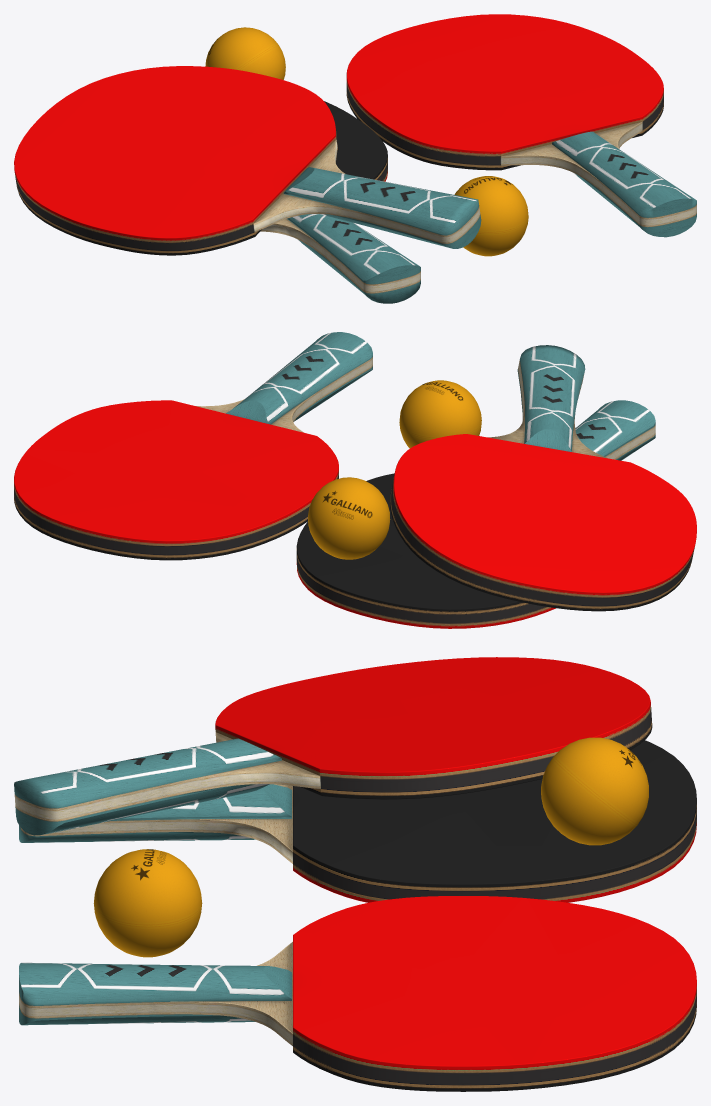
The picture shows the model from 3 angles, top to bottom: view 1: azimuth 30°, elevation 25°; view 2: azimuth 150°, elevation 25°; view 3: azimuth 270°, elevation 25°; orthographic projection. The views are drawn at different scales.
Visible parts, largest first — view 1: SM_PingPongPaddle_Show, SM_PingPongPaddle, SM_PingPongBall; view 2: SM_PingPongPaddle_Show, SM_PingPongPaddle, SM_PingPongBall; view 3: SM_PingPongPaddle_Show, SM_PingPongPaddle, SM_PingPongBall.
Part boxes in pixels (bbox=[...]): SM_PingPongPaddle_Show: bbox=[14, 27, 481, 303]; SM_PingPongPaddle: bbox=[346, 14, 696, 237]; SM_PingPongBall: bbox=[454, 176, 528, 256]; SM_PingPongPaddle_Show: bbox=[296, 345, 696, 628]; SM_PingPongPaddle: bbox=[14, 332, 372, 560]; SM_PingPongBall: bbox=[399, 380, 481, 448]; SM_PingPongPaddle_Show: bbox=[14, 657, 696, 902]; SM_PingPongPaddle: bbox=[19, 896, 696, 1091]; SM_PingPongBall: bbox=[93, 849, 202, 957].
Size of the model in its own units: 0.3481 by 0.065 by 0.2519.
Materials: 2 (2 with a texture image).
